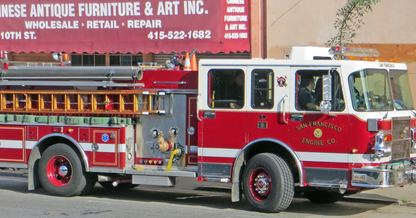truck: (0, 43, 416, 212)
